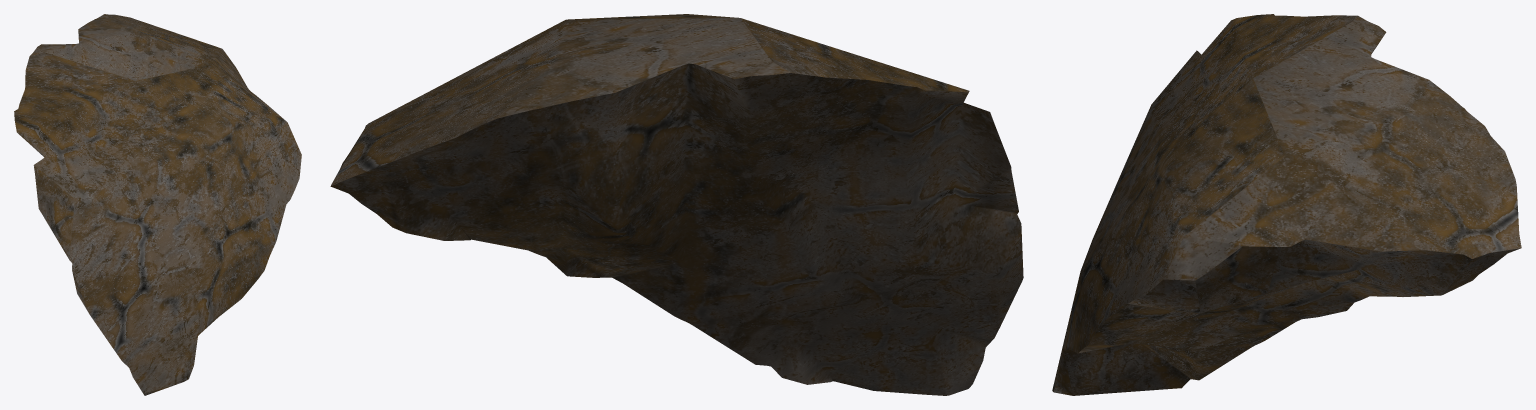
File: RockShard1.fbx
3 views of the same model, side by side, from view 1: azimuth 30°, elevation 25°; view 2: azimuth 150°, elevation 25°; view 3: azimuth 270°, elevation 25° (orthographic). The views are drawn at different scales.
Parts seen in each view (by area): view 1: RockShard1; view 2: RockShard1; view 3: RockShard1.
Part boxes in pixels (x1=…): RockShard1: x1=14, y1=14, x2=301, y2=395; RockShard1: x1=330, y1=14, x2=1023, y2=395; RockShard1: x1=1052, y1=14, x2=1521, y2=395.
Bounding box in the file's own units: 62.08 × 56.5 × 66.76.
